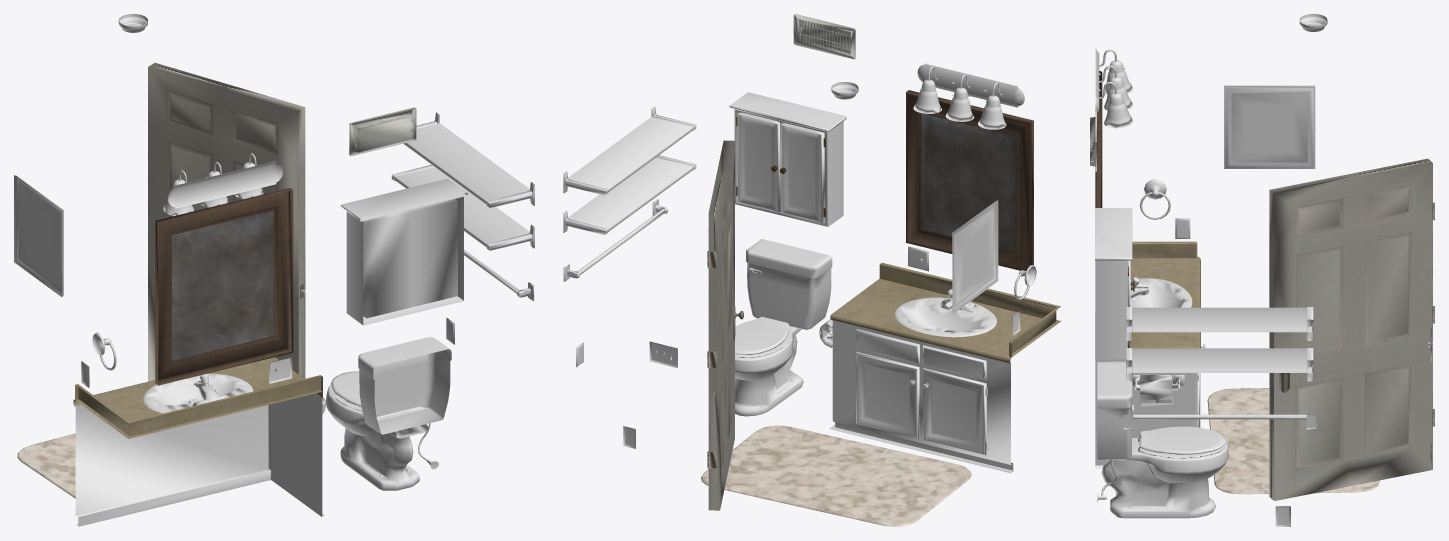
The model's file is Bathroom.fbx.
3 renders of one model, left to right at view 1: azimuth 30°, elevation 25°; view 2: azimuth 150°, elevation 25°; view 3: azimuth 270°, elevation 25°, orthographic. The views are drawn at different scales.
Visible parts, largest first — view 1: Bathroom-Cabinets_0.1, Bathroom-Shelf-Planks-Wood-Paint-White_0.1, Bathroom-Wood-Trim.material01_0.1, Bathroom-Door_0.1, Bathroom-Toilet-Residential_0.1, Bathroom-Picture-Art-Nature_0.1, Bathroom-Vanity-Light-Fixture_0.1, Ac-Vents-Panels_0.002, Bathroom-Carpet_0.1, Bathroom-Electric-Outlets_0.1; view 2: Bathroom-Cabinets_0.1, Bathroom-Wood-Trim.material01_0.1, Bathroom-Carpet_0.1, Bathroom-Shelf-Planks-Wood-Paint-White_0.1, Bathroom-Toilet-Residential_0.1, Bathroom-Door_0.1, Bathroom-Cabinets-White_0.002, Bathroom-Vanity-Light-Fixture_0.1, Bathroom-Picture-Art-Nature_0.1, Ac-Vents-Panels_0.002, Bathroom-Electric-Outlets_0.1; view 3: Bathroom-Door_0.1, Bathroom-Shelf-Planks-Wood-Paint-White_0.1, Bathroom-Toilet-Residential_0.1, Bathroom-Cabinets_0.1, Bathroom-Picture-Art-Nature_0.1, Bathroom-Carpet_0.1, Bathroom-Vanity-Light-Fixture_0.1, Bathroom-Toilet-Paper_0.1, Bathroom-Electric-Outlets_0.1, Bathroom-Wood-Trim.material01_0.1, Smoke-Detector_0.003.
Boxes of the visible parts, x1=… form: Bathroom-Cabinets_0.1: x1=73, y1=357, x2=324, y2=526; Bathroom-Shelf-Planks-Wood-Paint-White_0.1: x1=92, y1=112, x2=534, y2=370; Bathroom-Wood-Trim.material01_0.1: x1=155, y1=188, x2=293, y2=385; Bathroom-Door_0.1: x1=148, y1=63, x2=305, y2=381; Bathroom-Toilet-Residential_0.1: x1=325, y1=337, x2=451, y2=490; Bathroom-Picture-Art-Nature_0.1: x1=14, y1=175, x2=63, y2=296; Bathroom-Vanity-Light-Fixture_0.1: x1=163, y1=153, x2=283, y2=216; Ac-Vents-Panels_0.002: x1=349, y1=107, x2=416, y2=156; Bathroom-Carpet_0.1: x1=17, y1=433, x2=75, y2=498; Bathroom-Electric-Outlets_0.1: x1=81, y1=318, x2=454, y2=387; Bathroom-Cabinets_0.1: x1=829, y1=262, x2=1061, y2=473; Bathroom-Wood-Trim.material01_0.1: x1=906, y1=90, x2=1033, y2=270; Bathroom-Carpet_0.1: x1=701, y1=425, x2=971, y2=526; Bathroom-Shelf-Planks-Wood-Paint-White_0.1: x1=563, y1=92, x2=1036, y2=300; Bathroom-Toilet-Residential_0.1: x1=735, y1=239, x2=832, y2=416; Bathroom-Door_0.1: x1=707, y1=140, x2=743, y2=510; Bathroom-Cabinets-White_0.002: x1=736, y1=111, x2=825, y2=222; Bathroom-Vanity-Light-Fixture_0.1: x1=913, y1=63, x2=1024, y2=129; Bathroom-Picture-Art-Nature_0.1: x1=952, y1=200, x2=998, y2=313; Ac-Vents-Panels_0.002: x1=793, y1=14, x2=855, y2=59; Bathroom-Electric-Outlets_0.1: x1=576, y1=246, x2=1020, y2=448; Bathroom-Door_0.1: x1=1269, y1=158, x2=1434, y2=500; Bathroom-Shelf-Planks-Wood-Paint-White_0.1: x1=1095, y1=179, x2=1316, y2=429; Bathroom-Toilet-Residential_0.1: x1=1097, y1=361, x2=1228, y2=518; Bathroom-Cabinets_0.1: x1=1095, y1=241, x2=1205, y2=468; Bathroom-Picture-Art-Nature_0.1: x1=1224, y1=85, x2=1315, y2=168; Bathroom-Carpet_0.1: x1=1207, y1=388, x2=1379, y2=494; Bathroom-Vanity-Light-Fixture_0.1: x1=1095, y1=47, x2=1133, y2=128; Bathroom-Toilet-Paper_0.1: x1=1132, y1=375, x2=1184, y2=406; Bathroom-Electric-Outlets_0.1: x1=1175, y1=218, x2=1432, y2=526; Bathroom-Wood-Trim.material01_0.1: x1=1095, y1=71, x2=1102, y2=207; Smoke-Detector_0.003: x1=1299, y1=14, x2=1327, y2=31.
Bounding box in the file's own units: 3.26 × 2.41 × 3.18.
